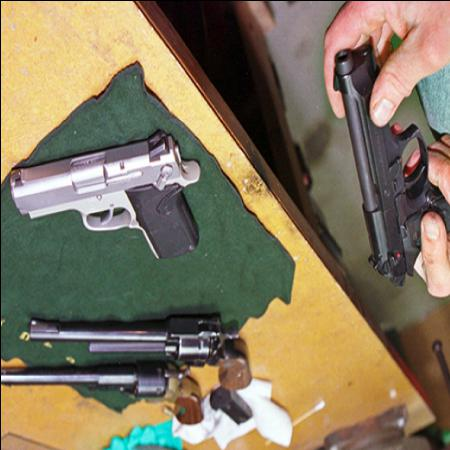Pistol: (320, 27, 448, 303), (12, 118, 204, 278), (22, 316, 250, 396)
